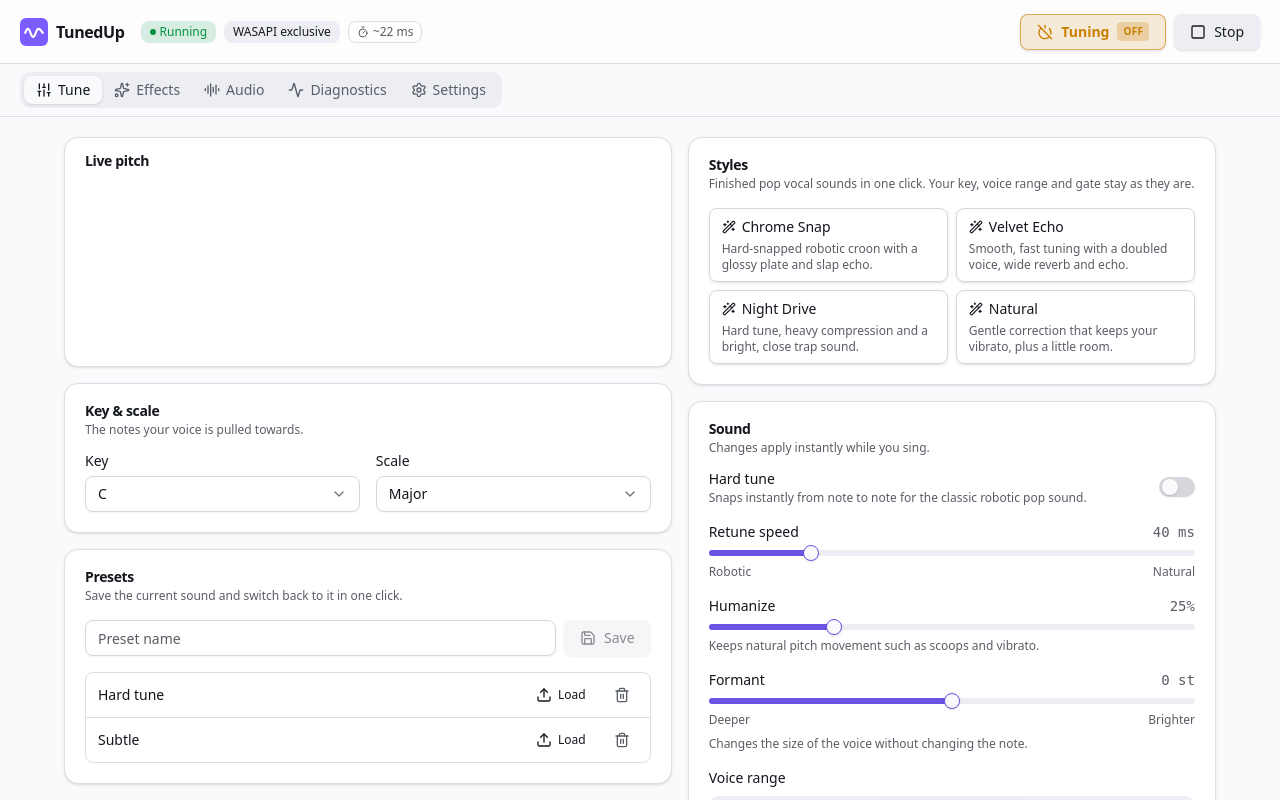
App shell › stops and starts the engine
Click the button "Stop": point(1217, 32) [1174, 14, 1260, 50]
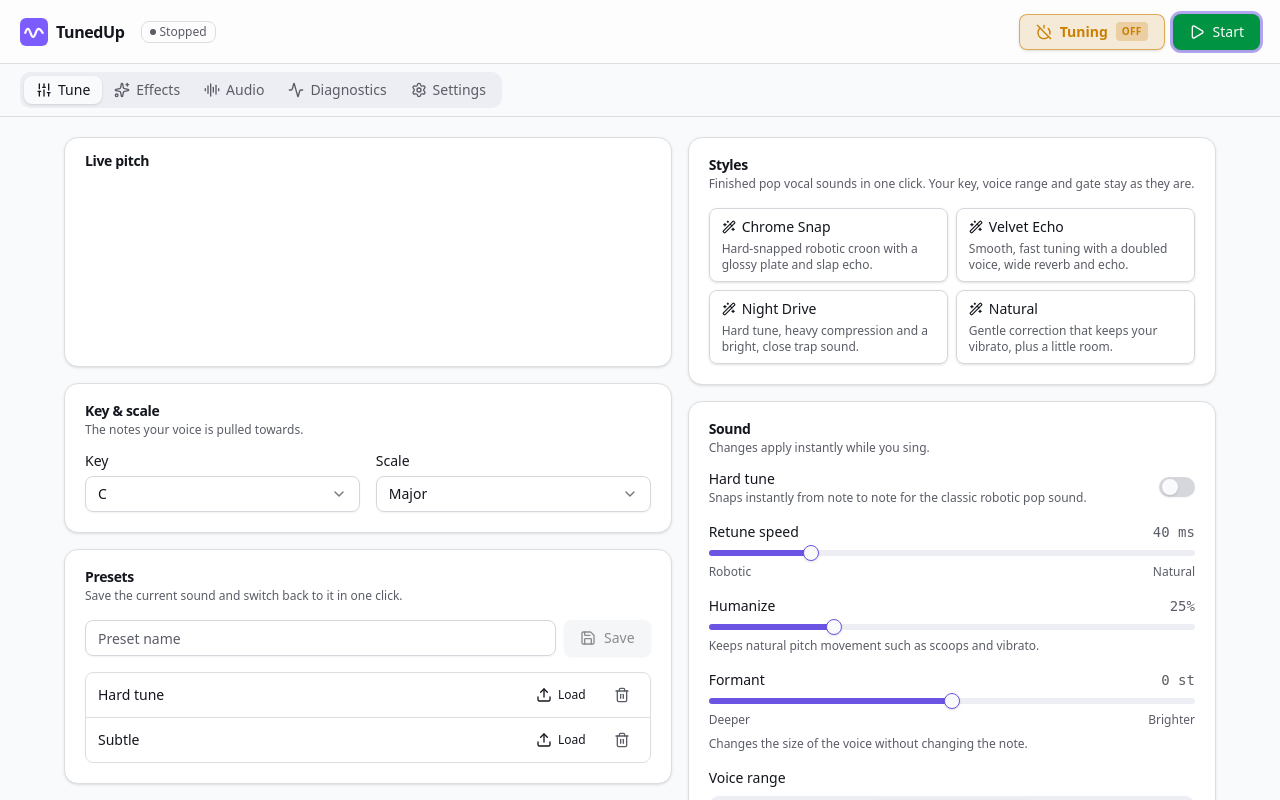
Expected: the text "Stopped" is shown, [140, 20, 216, 42]
Click the button "Start": point(1216, 32) [1173, 14, 1260, 50]
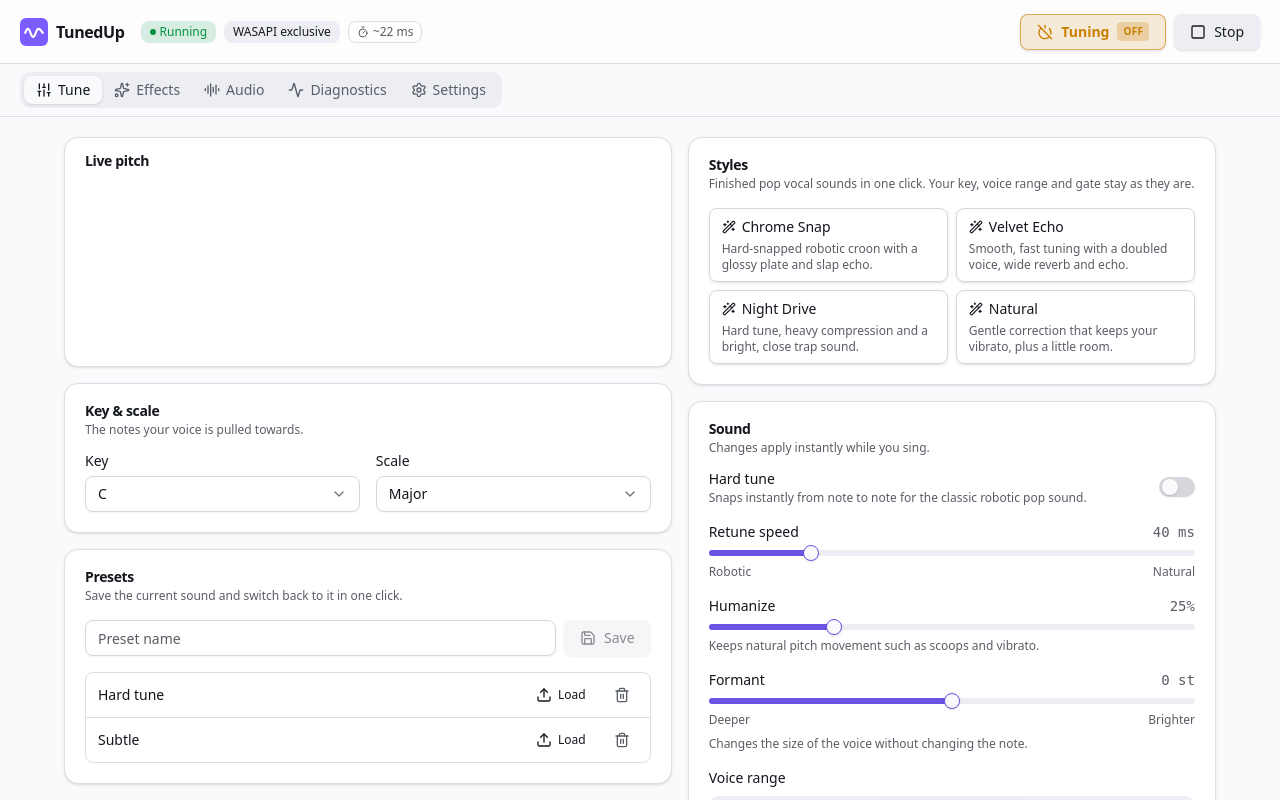
Expected: the text "Running" is shown, [140, 20, 216, 42]
